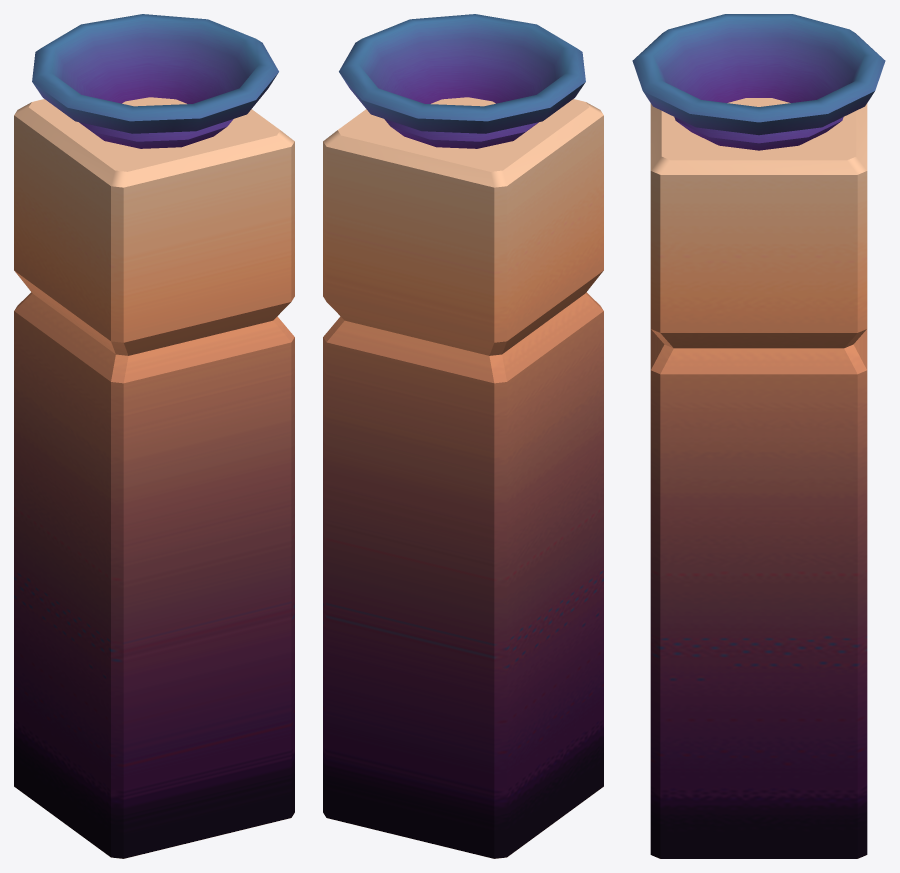
Rendered from FacePillar.fbx.
3 views of the same model, side by side, from view 1: azimuth 30°, elevation 25°; view 2: azimuth 150°, elevation 25°; view 3: azimuth 270°, elevation 25° (orthographic).
Visible parts, largest first — view 1: FacePillar; view 2: FacePillar; view 3: FacePillar.
Part boxes in pixels (bbox=[...]): FacePillar: bbox=[14, 14, 294, 858]; FacePillar: bbox=[323, 14, 603, 858]; FacePillar: bbox=[632, 14, 885, 858].
Size of the model in its own units: 2.89 by 9.58 by 2.92.
Materials: 1 (1 with a texture image).
